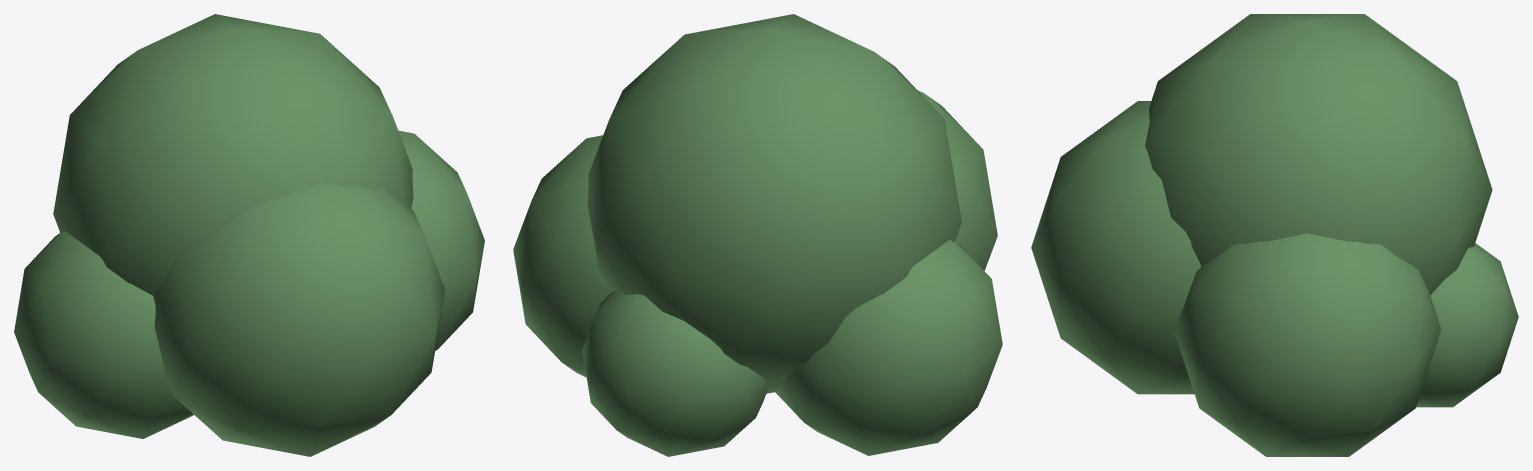
File: Cali.fbx
The picture shows the model from 3 angles, left to right: view 1: azimuth 30°, elevation 25°; view 2: azimuth 150°, elevation 25°; view 3: azimuth 270°, elevation 25°; orthographic projection. The views are drawn at different scales.
Visible parts, largest first — view 1: Icosphere; view 2: Icosphere; view 3: Icosphere.
Boxes of the visible parts, box(x1,y1,x2,y2) form: Icosphere: box(14, 14, 484, 456); Icosphere: box(513, 14, 1002, 456); Icosphere: box(1031, 14, 1518, 456).
Bounding box in the file's own units: 138 × 114 × 135.
